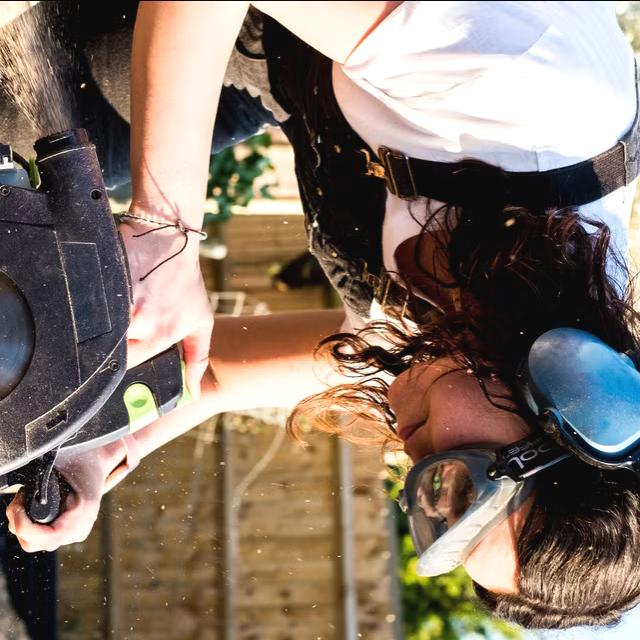Ear Muffs: (514, 320, 638, 474)
Safety Glasses: (396, 419, 576, 587)
